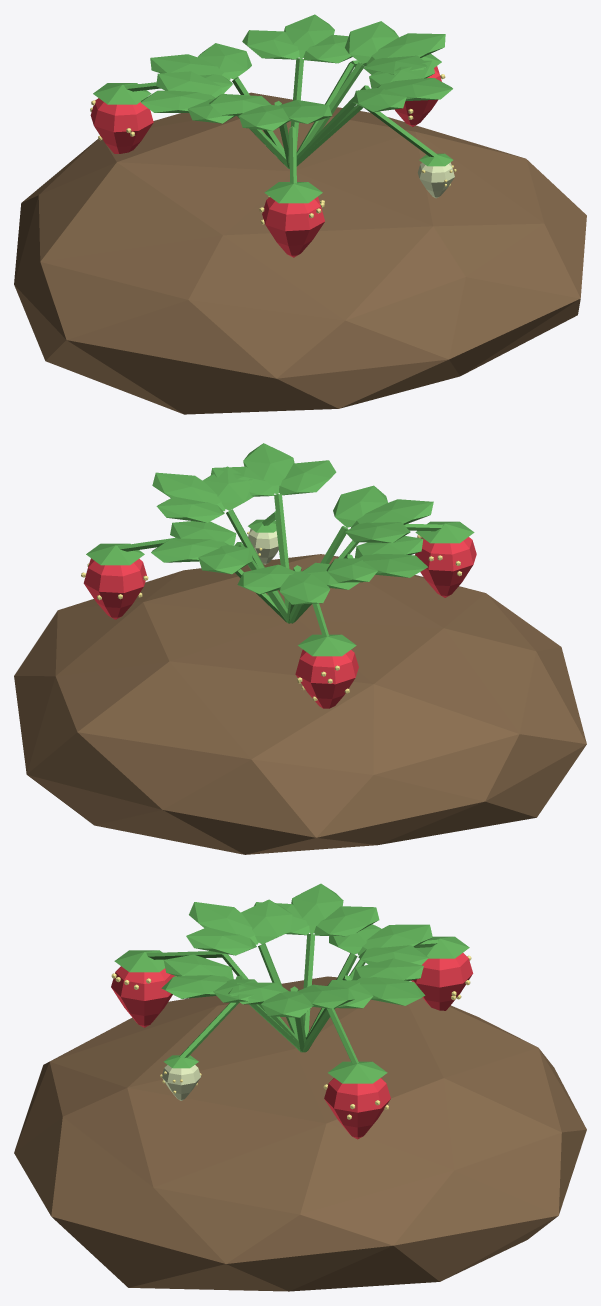
File: fraise_3_mure.fbx
3 views of the same model, one above another, from view 1: azimuth 30°, elevation 25°; view 2: azimuth 150°, elevation 25°; view 3: azimuth 270°, elevation 25° (orthographic). The views are drawn at different scales.
Visible parts, largest first — view 1: fraise_3_mure; view 2: fraise_3_mure; view 3: fraise_3_mure.
Part boxes in pixels (x1,y1,x2,y2): fraise_3_mure: (14,14,586,414); fraise_3_mure: (14,443,586,854); fraise_3_mure: (14,883,586,1291).
Size of the model in its own units: 1 by 0.5233 by 0.9413.
